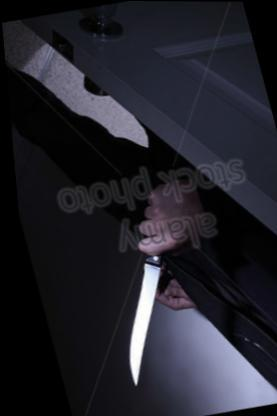knife: (76, 190, 208, 392)
